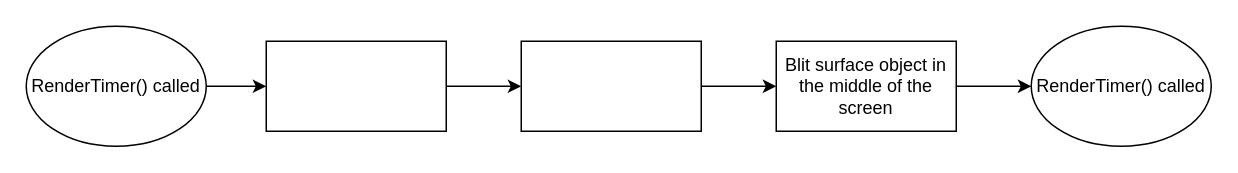
Some shapes in this 1238 by 173 pixel diagram are drawn without their labels. Each missing label, with the centre of its shape:
Create surface object for seconds: point 355,85
Find length of surface object in pixels: point 610,85
